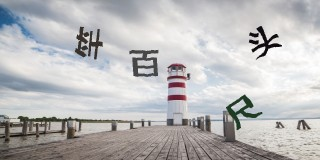头: (248, 26, 282, 60)
尺: (225, 94, 264, 130)
百: (129, 48, 159, 77)
竿: (74, 26, 103, 60)
